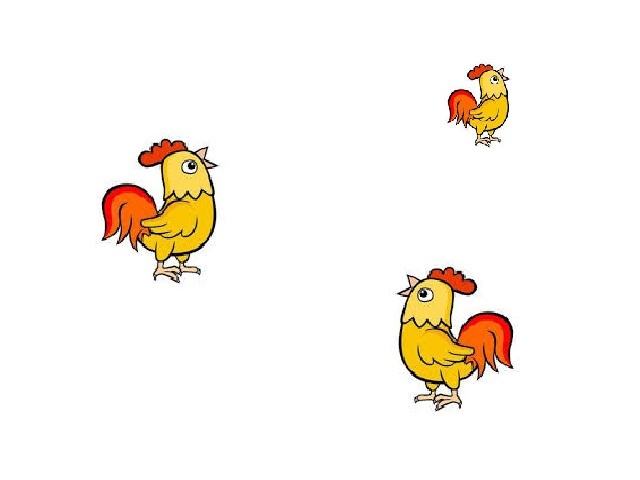crown: (432, 266, 480, 295), (139, 142, 184, 163), (467, 63, 497, 75)
eyes: (179, 160, 195, 173), (416, 287, 431, 297), (491, 77, 502, 87)
feet: (153, 260, 201, 282), (414, 393, 464, 409), (474, 132, 505, 148)
tail: (456, 313, 517, 377), (103, 183, 156, 243), (447, 88, 474, 123)
